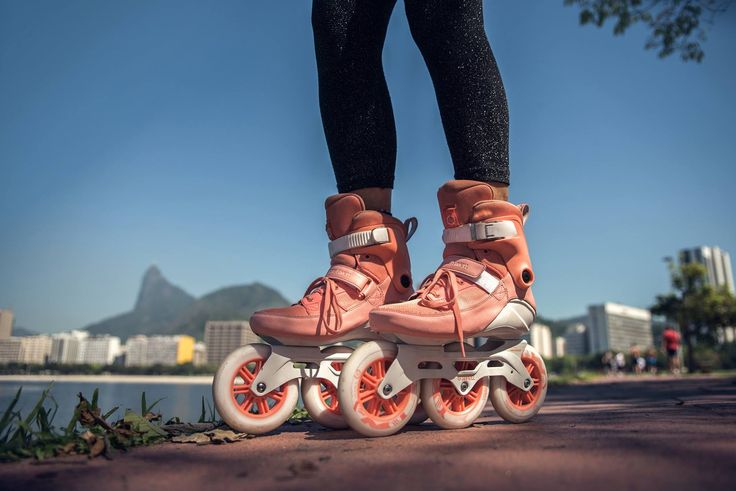roller_blade: (212, 191, 559, 438)
